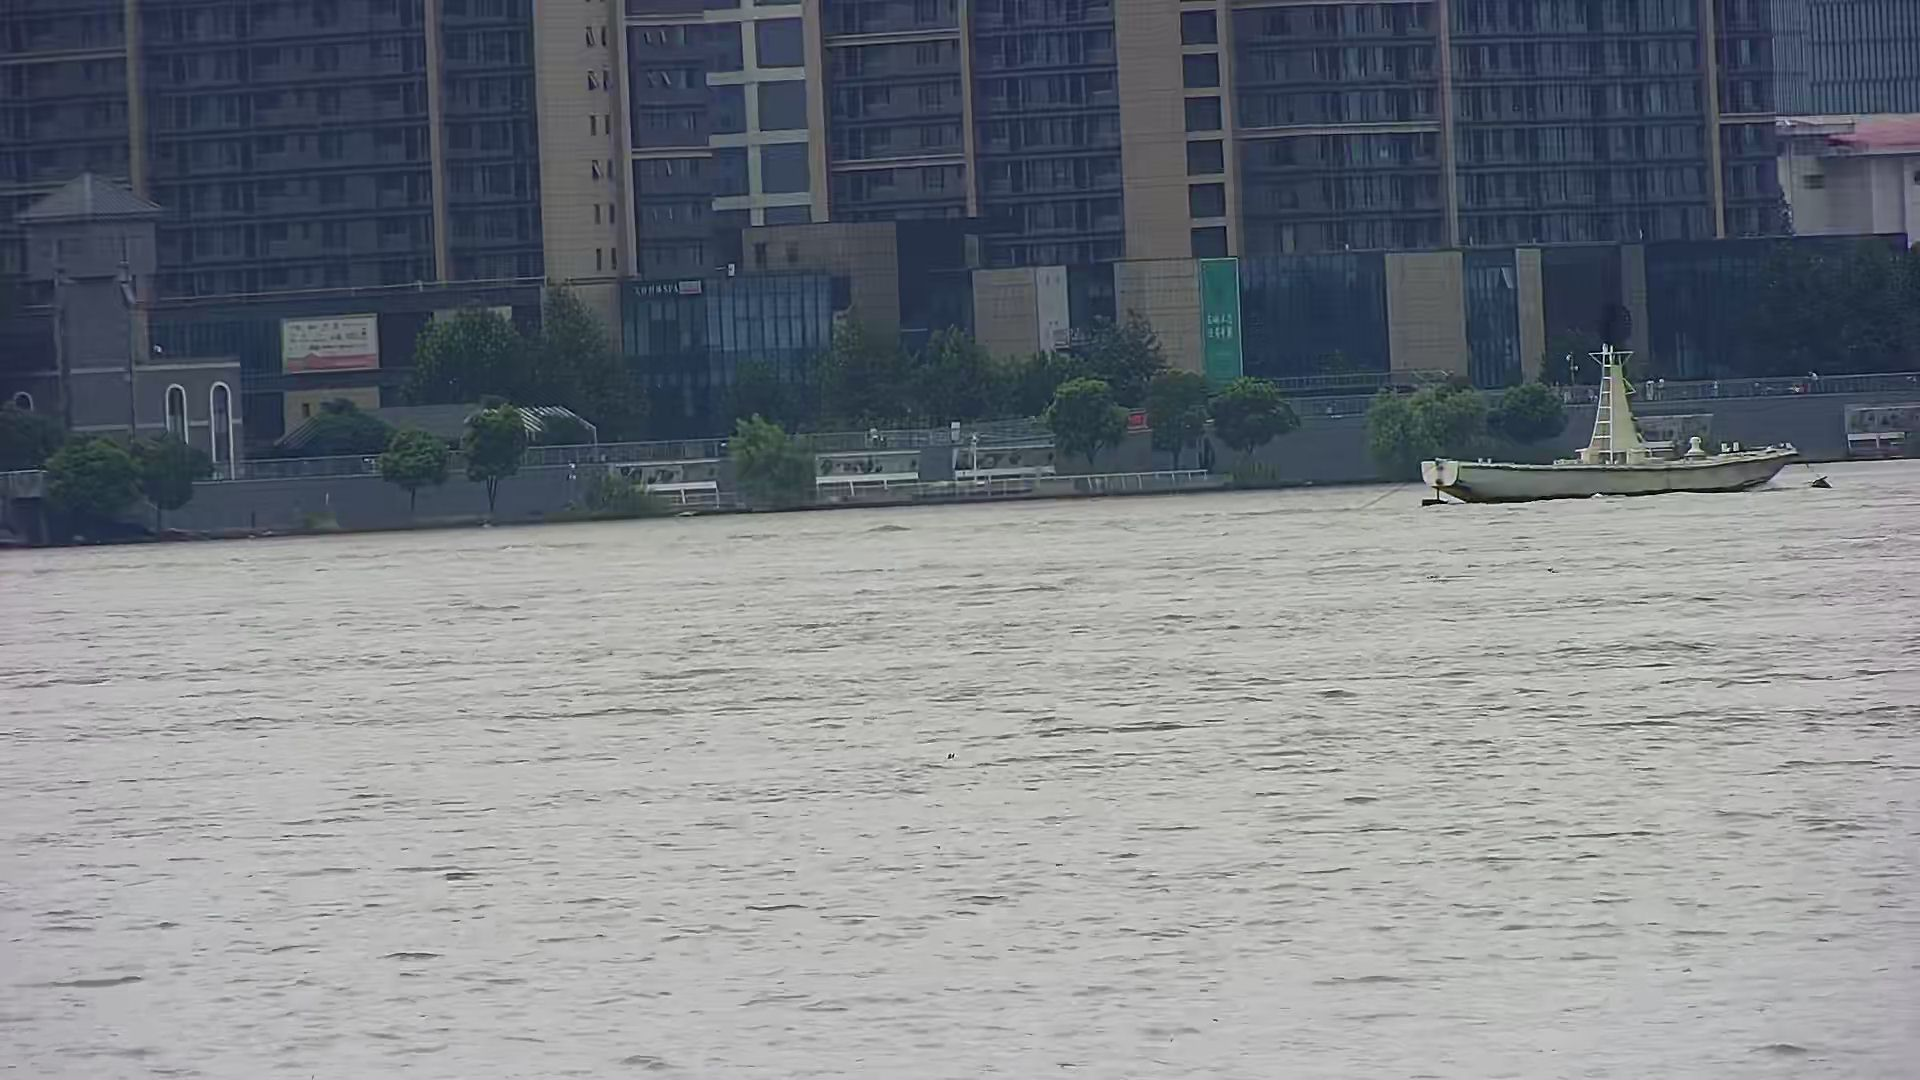boat: (1412, 302, 1793, 516)
